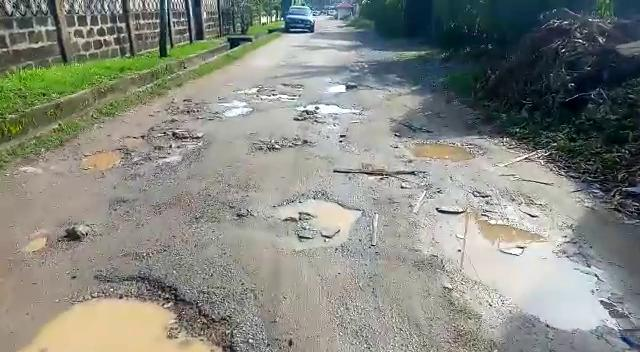pothole: (421, 204, 618, 333), (35, 271, 247, 352), (271, 194, 362, 246), (102, 128, 207, 167), (404, 136, 485, 163), (337, 167, 427, 183), (79, 145, 133, 171), (237, 82, 303, 100), (250, 135, 312, 152), (297, 102, 361, 115), (208, 100, 256, 117), (329, 83, 349, 94)
